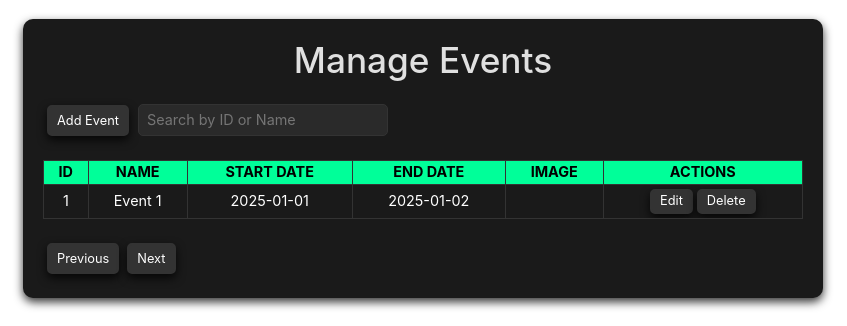
Test: EventsAdmin Component › deletes an event when delete is confirmed
What coordinates should you click on to do the following:
click the button "Delete"
I would click on:
 (726, 201)
Its box is [697, 189, 756, 214].
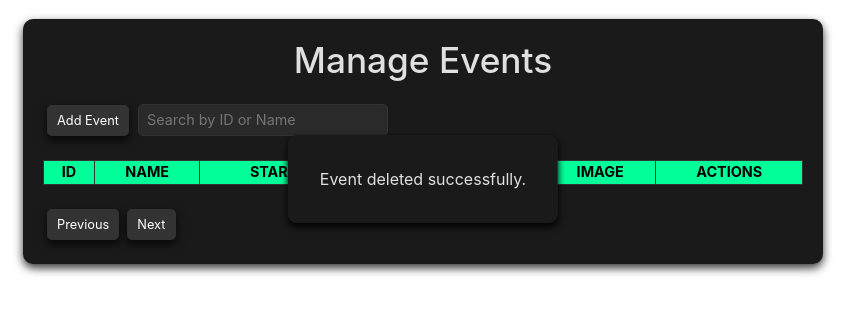
Result: the text "Event 1" is gone
